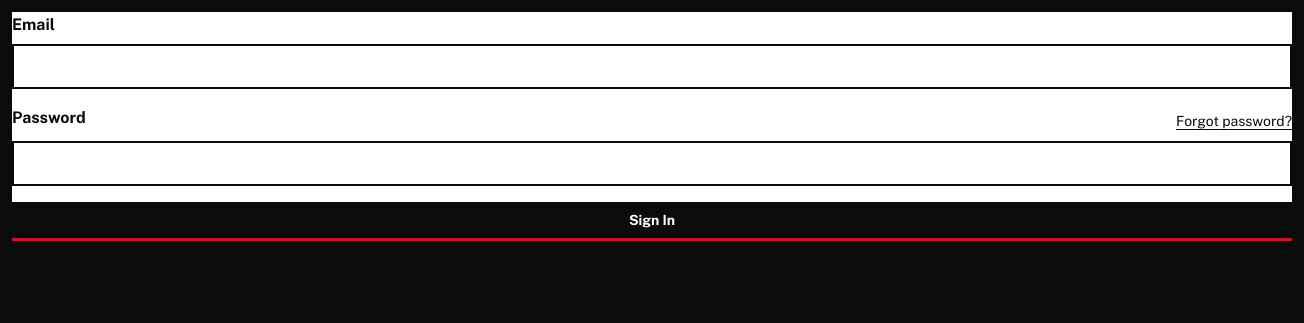
Test case: LoginForm › Basic login flow › clears error when user types
This screenshot has width=1304, height=323.
Type "test@example.com" into the field labelled "Email" at (652, 66), box [12,44,1292,89]
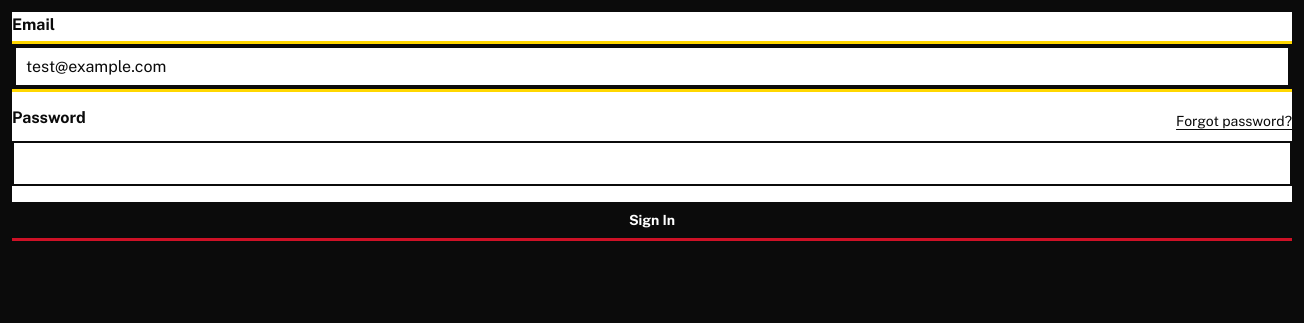
Type "Password123!" into the password field labelled "Password" at (652, 164), box [12,141,1292,186]
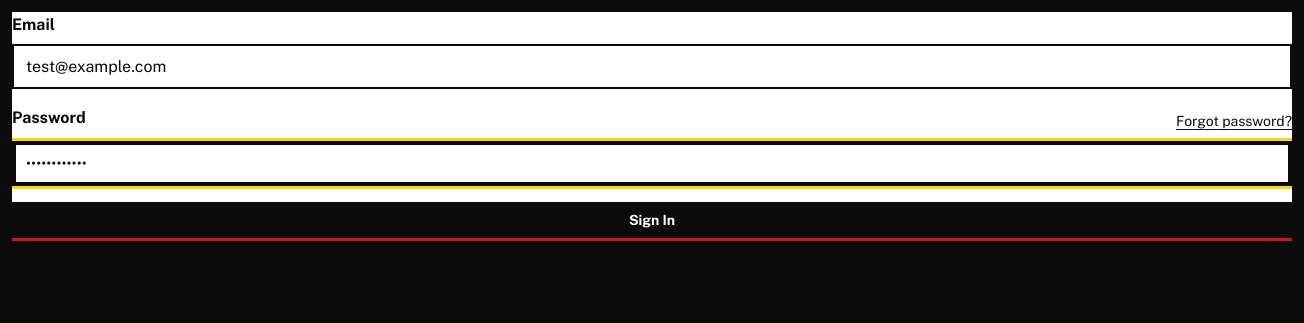
Click the button "Sign In" at (652, 220), box [12,202,1292,238]
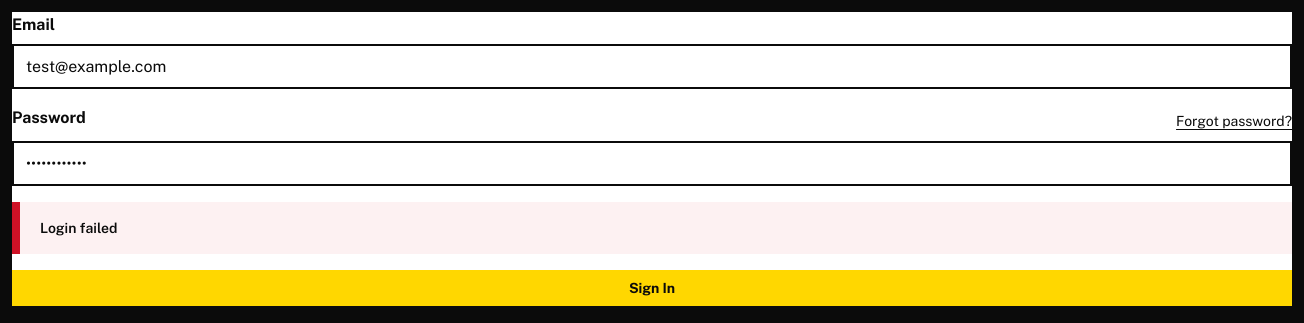
Now the text "Login failed" is shown, box [12,202,1292,254]
Type "another@example.com" into the field labelled "Email" at (652, 66), box [12,44,1292,89]
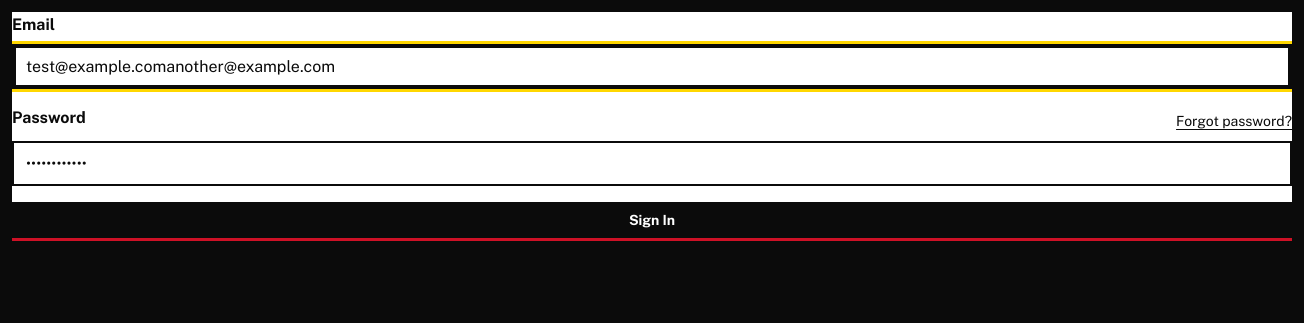
Now the text "Login failed" is gone
